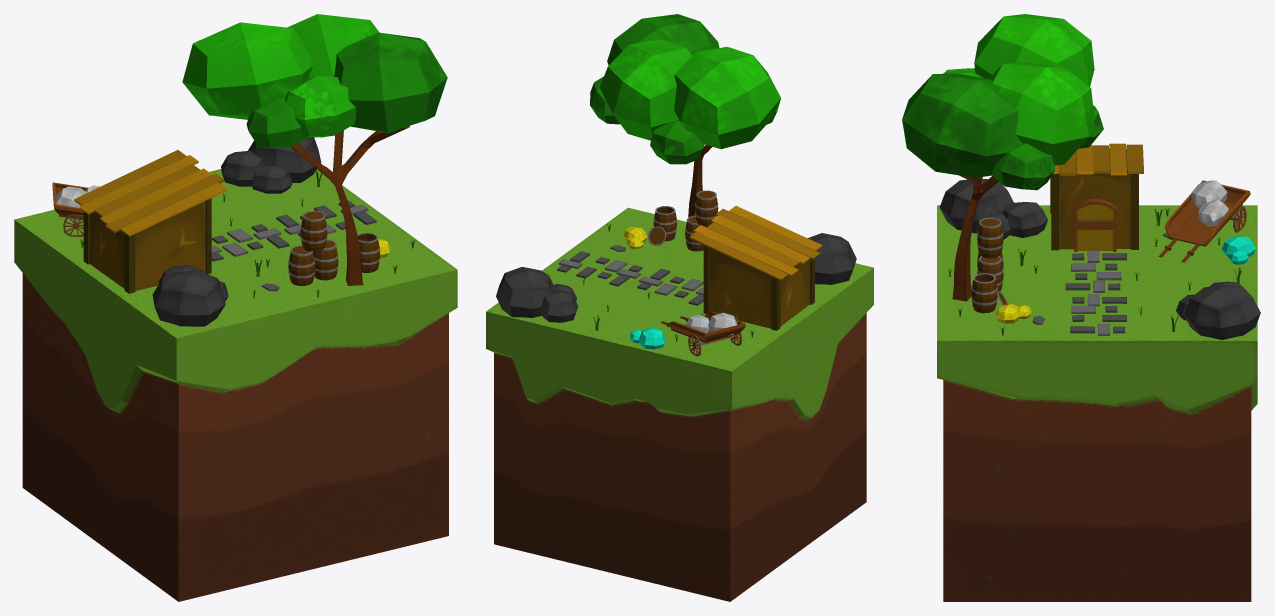
File: Concepts_22.fbx
3 views of the same model, side by side, from view 1: azimuth 30°, elevation 25°; view 2: azimuth 150°, elevation 25°; view 3: azimuth 270°, elevation 25° (orthographic). The views are drawn at different scales.
Parts seen in each view (by area): view 1: Cube.176, Cube.178, Cube.184, Cube.180, Cube.179, Cube.177, Cube.011, Cube.183, Cube.222, Cube.218, Cube.220; view 2: Cube.176, Cube.178, Cube.184, Cube.179, Cube.177, Cube.180, Cube.011, Cube.183, Cube.182, Cube.181, Cube.222; view 3: Cube.176, Cube.178, Cube.184, Cube.180, Cube.179, Cube.177, Cube.183, Cube.011, Cube.182, Cube.222, Cube.181, Cube.185.
Part boxes in pixels (x1,y1,x2,y2): Cube.176: (14, 168, 457, 601); Cube.178: (182, 14, 447, 285); Cube.184: (74, 150, 227, 293); Cube.180: (152, 265, 228, 326); Cube.179: (221, 137, 321, 193); Cube.177: (211, 200, 376, 261); Cube.011: (357, 232, 390, 272); Cube.183: (52, 182, 88, 236); Cube.222: (300, 217, 327, 251); Cube.218: (288, 251, 315, 285); Cube.220: (313, 246, 338, 280); Cube.176: (486, 207, 873, 601); Cube.178: (590, 14, 780, 217); Cube.184: (689, 205, 822, 330); Cube.179: (496, 267, 578, 322); Cube.177: (557, 251, 703, 305); Cube.180: (808, 233, 856, 284); Cube.011: (623, 206, 676, 249); Cube.183: (660, 311, 745, 356); Cube.182: (685, 312, 737, 335); Cube.181: (630, 327, 665, 349); Cube.222: (694, 195, 718, 226); Cube.176: (937, 205, 1257, 601); Cube.178: (902, 14, 1103, 301); Cube.184: (1050, 143, 1143, 251); Cube.180: (939, 179, 1047, 239); Cube.179: (1176, 281, 1260, 339); Cube.177: (1065, 250, 1126, 335); Cube.183: (1158, 180, 1250, 262); Cube.011: (971, 273, 1031, 323); Cube.182: (1191, 180, 1228, 226); Cube.222: (977, 224, 1003, 258); Cube.181: (1221, 236, 1255, 264); Cube.185: (948, 207, 1241, 335).
Size of the model in its own units: 307 by 525 by 337.
